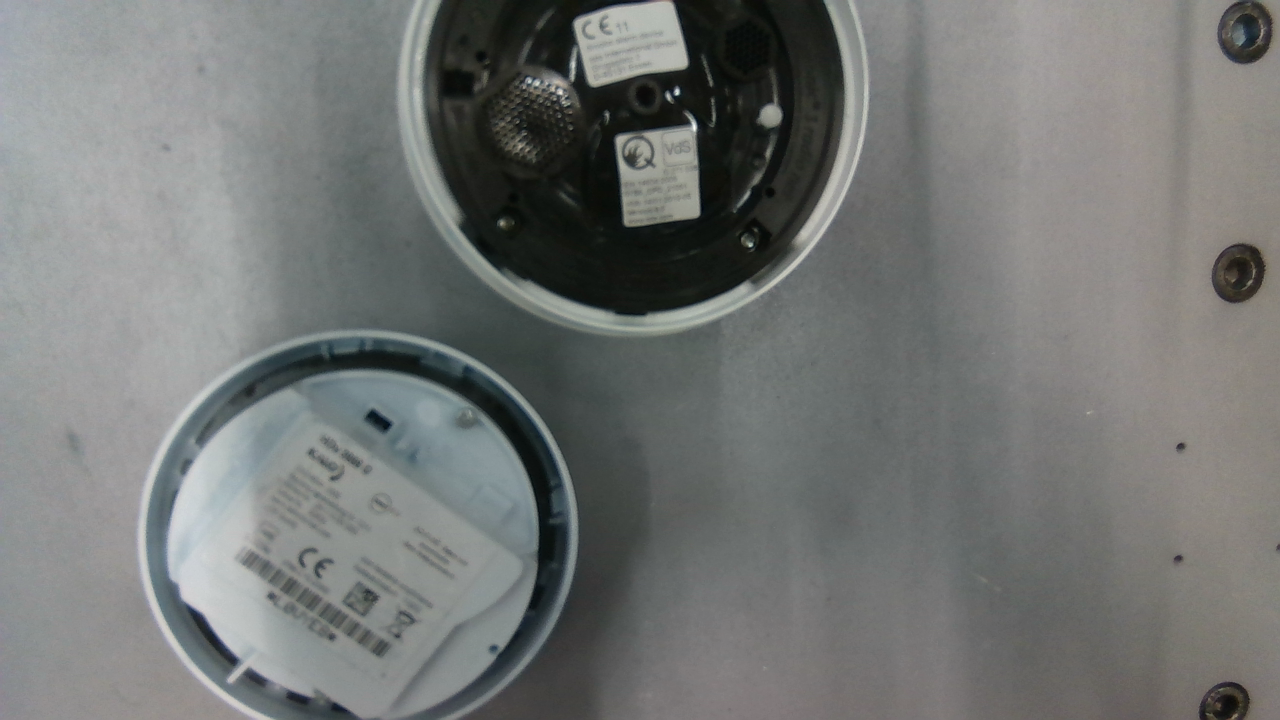HexScrew: (737, 223, 765, 257), (453, 407, 478, 432), (495, 212, 516, 235)
